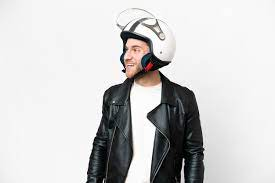helmets: (116, 8, 177, 73)
